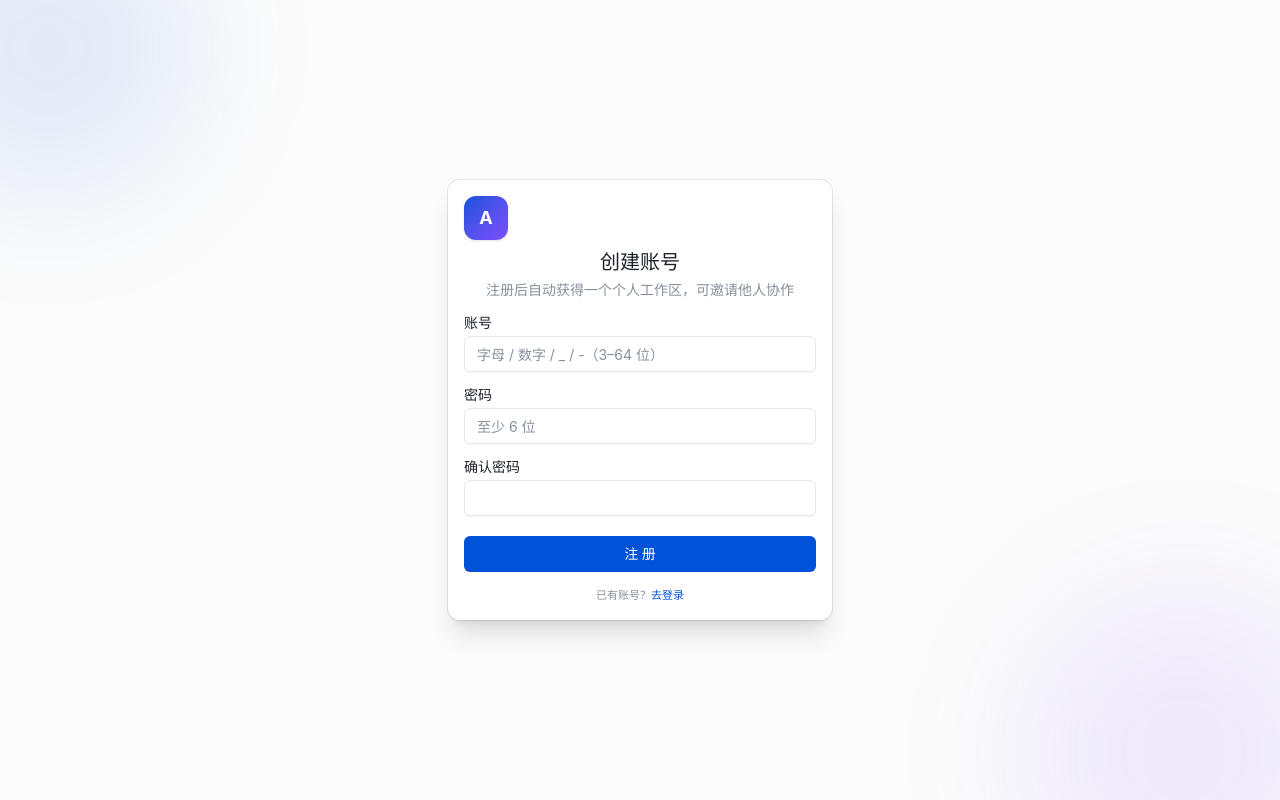
Test: T46a-4：注册页 › 密码太短：本地拦下并说清要求（不打接口，也不再甩后端校验 JSON）
This screenshot has width=1280, height=800.
Type "alice" into the field with test id "register-username" at (640, 354), box top-left (464, 336), bottom-right (816, 372)
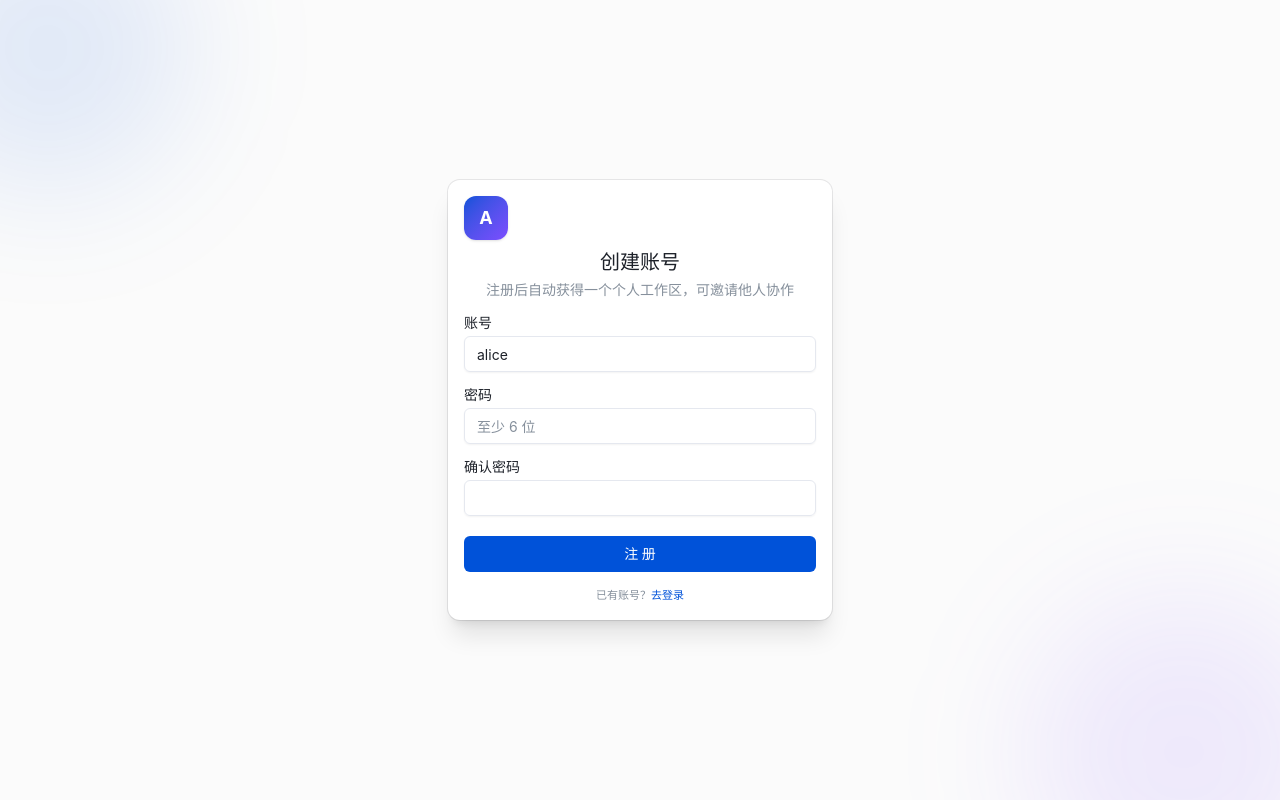
Type "111" into the password field with test id "register-password" at (640, 426), box top-left (464, 408), bottom-right (816, 444)
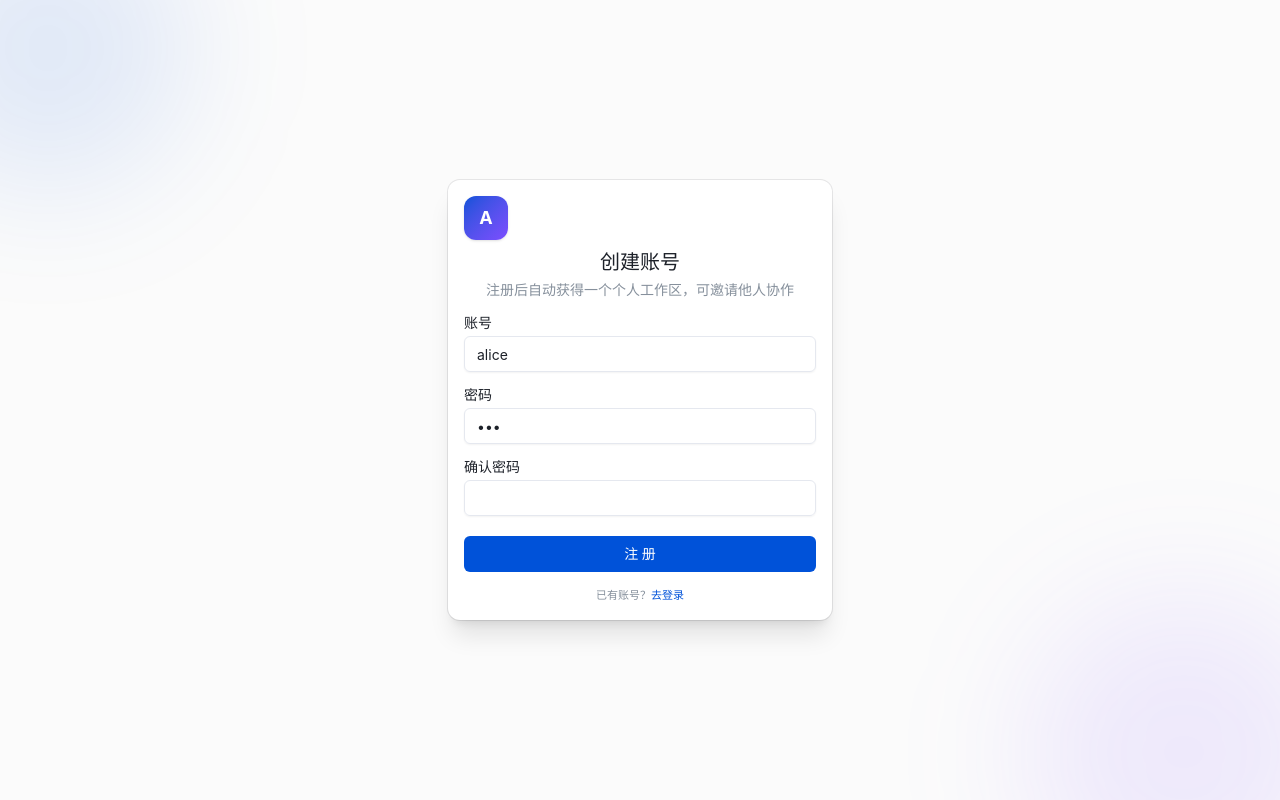
Type "111" into the password field with test id "register-confirm" at (640, 498), box top-left (464, 480), bottom-right (816, 516)
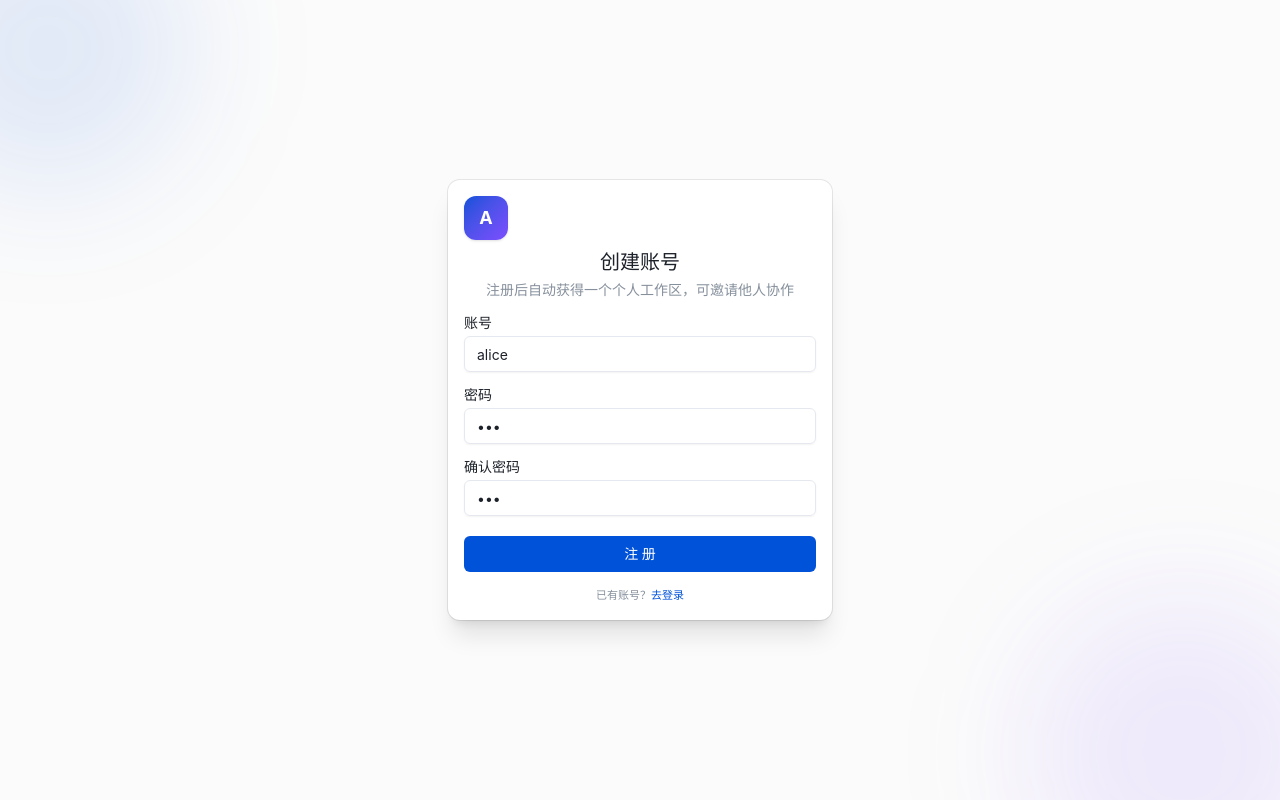
Click the button with test id "register-submit" at (640, 554), box top-left (464, 536), bottom-right (816, 572)
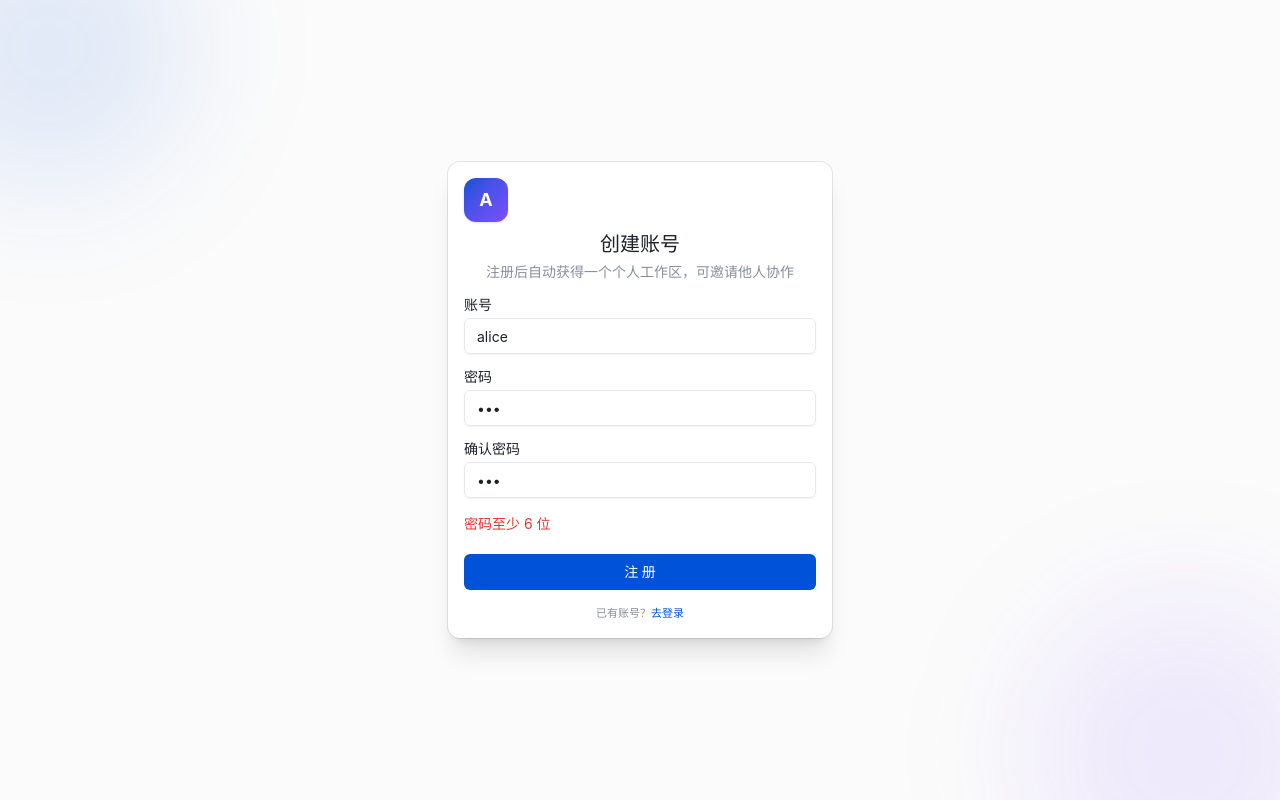
Result: the text with test id "register-error" reads "密码至少 6 位" at top-left (464, 515), bottom-right (551, 532)
